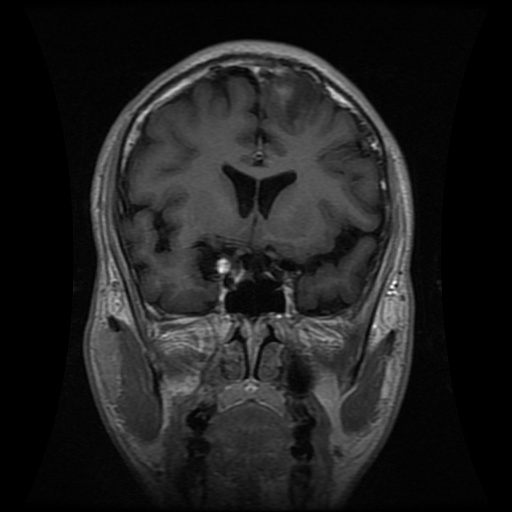glioma: (257, 66, 322, 134)
